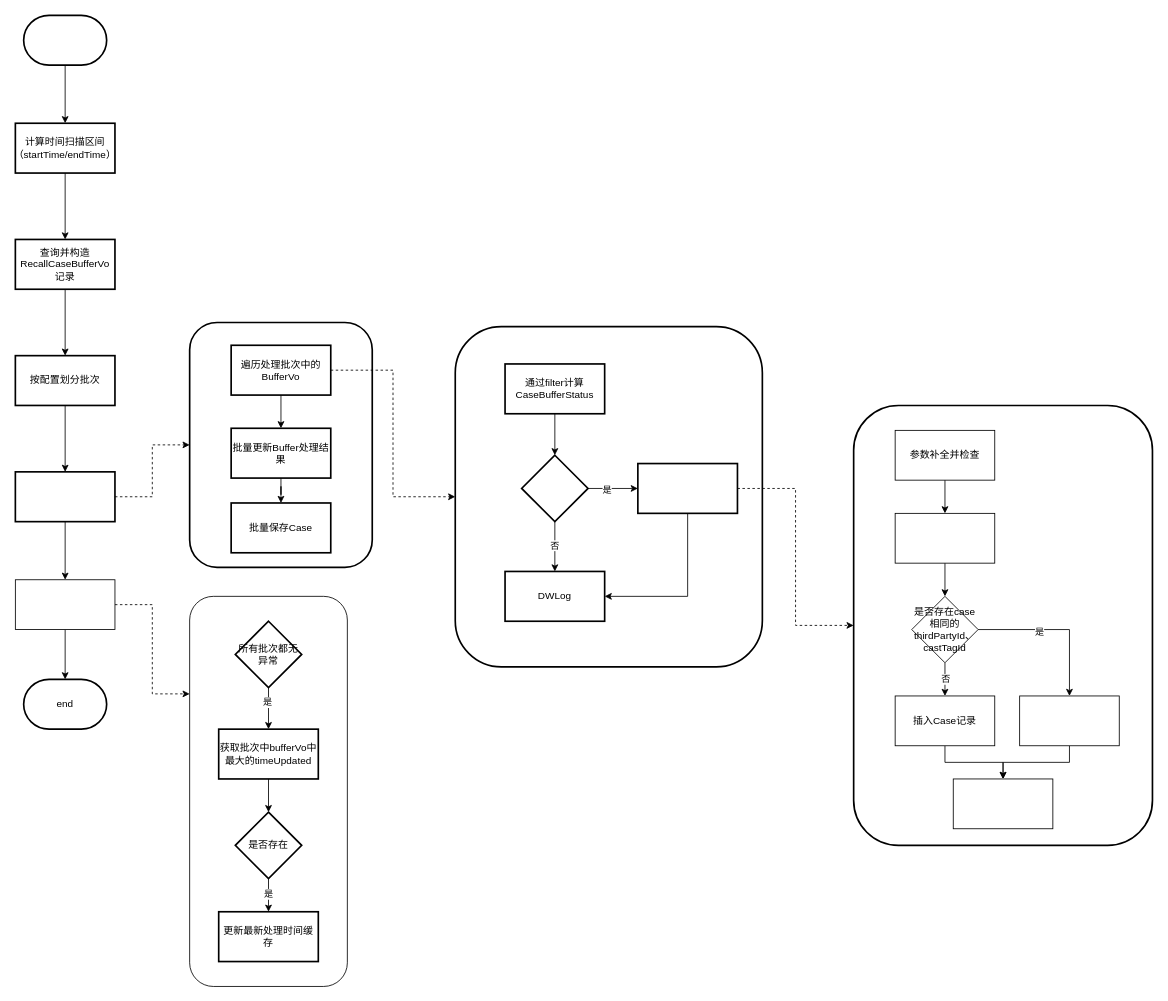
Some shapes in this 1168 by 1001 pixel diagram are drawn without their labels. Here are the shapes that lost their labels. From the top down, the centre of each, then its label:
pixel 64 40: start
pixel 64 496: 异步并行处理 每个批次
pixel 554 488: 是否Complete && 是否关闭批量保存
pixel 687 488: 保存Case记录
pixel 944 538: Redis->lock business/tag/thirdId
pixel 65 604: 刷新Redis最新处理时间
pixel 1069 720: 更新Case 重新推送设置
pixel 1002 803: InfluxDB打点
